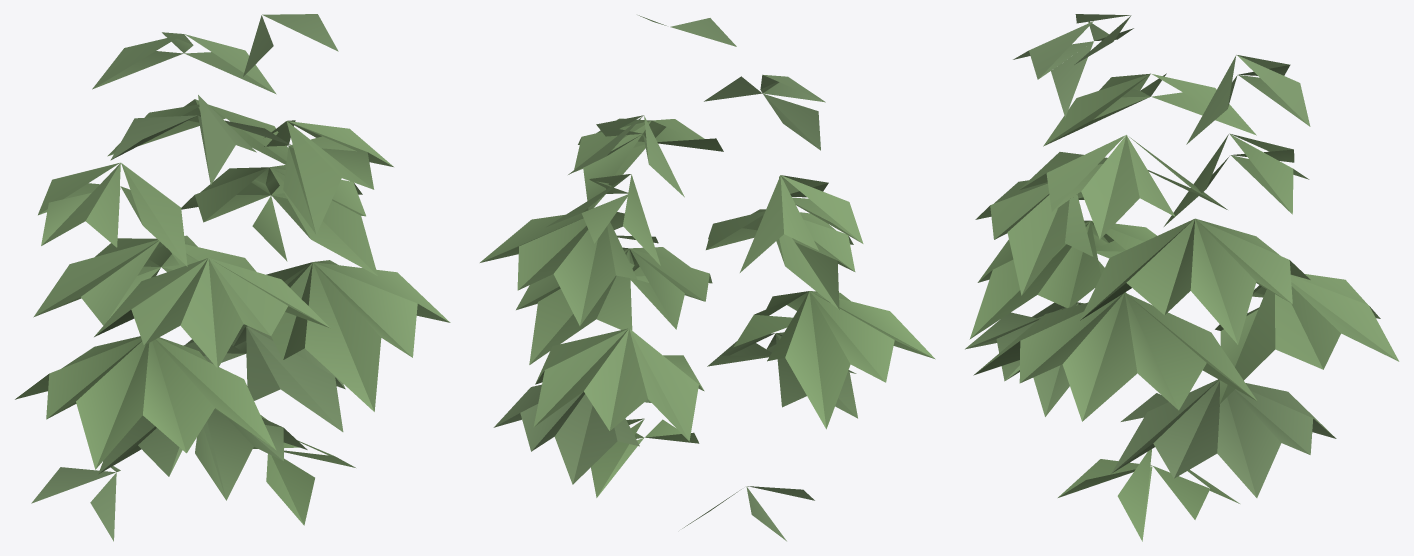
File: redwood.lod.glb
3 renders of one model, left to right at view 1: azimuth 30°, elevation 25°; view 2: azimuth 150°, elevation 25°; view 3: azimuth 270°, elevation 25°, orthographic. The views are drawn at different scales.
Visible parts, largest first — view 1: redwood; view 2: redwood; view 3: redwood.
Boxes of the visible parts, x1,y1,x2,y2 form: redwood: (15,14,450,541); redwood: (480,15,935,541); redwood: (965,14,1399,541).
Bounding box in the file's own units: 6.46 × 7.63 × 6.24.
